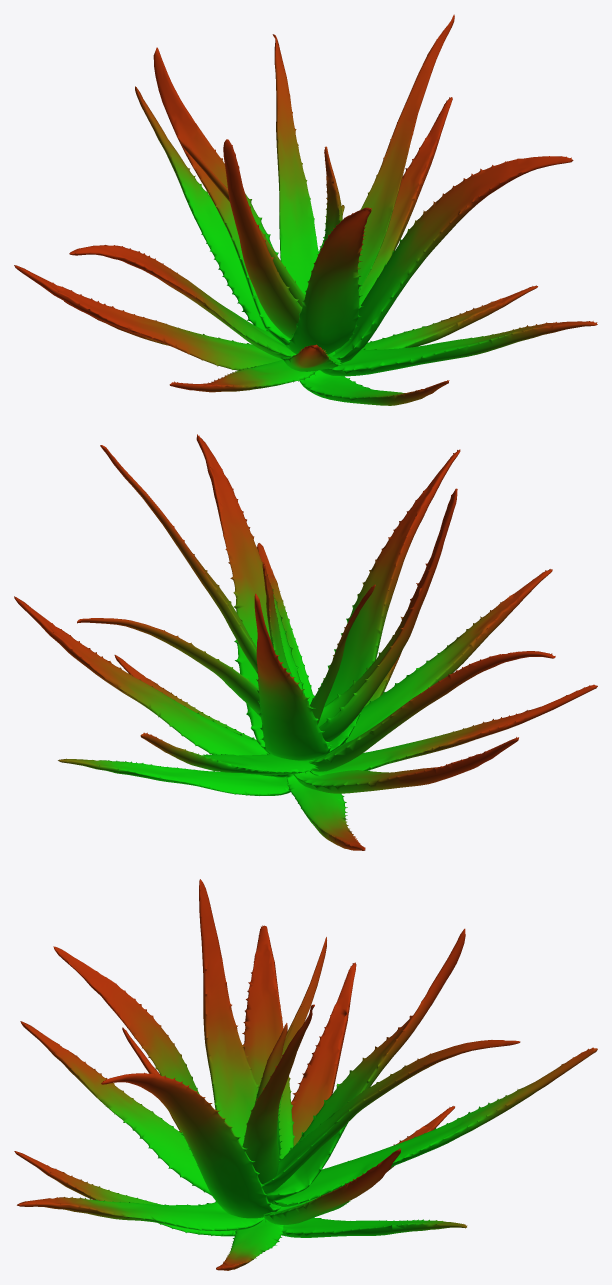
Rendered from Aloe Vera_LOD2_Var7_ve4tbbrha.fbx.
3 renders of one model, top to bottom at view 1: azimuth 30°, elevation 25°; view 2: azimuth 150°, elevation 25°; view 3: azimuth 270°, elevation 25°, orthographic. The views are drawn at different scales.
Visible parts, largest first — view 1: _d5gz_Var7_LOD2; view 2: _d5gz_Var7_LOD2; view 3: _d5gz_Var7_LOD2.
Boxes of the visible parts, x1,y1,x2,y2 form: _d5gz_Var7_LOD2: (14, 14, 597, 405); _d5gz_Var7_LOD2: (14, 434, 597, 850); _d5gz_Var7_LOD2: (14, 879, 597, 1270).
Bounding box in the file's own units: 61.05 × 39 × 66.52.
